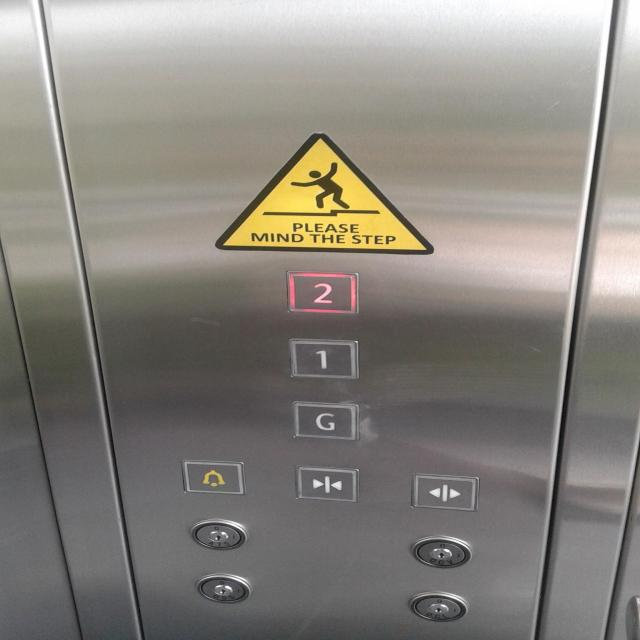1: (284, 336, 362, 382)
2: (281, 268, 360, 316)
G: (286, 398, 362, 442)
alarm: (176, 456, 250, 496)
close: (290, 463, 362, 505)
keyhole: (408, 533, 476, 569), (184, 516, 251, 552), (190, 570, 257, 606), (408, 590, 470, 625)
open: (407, 470, 481, 514)
